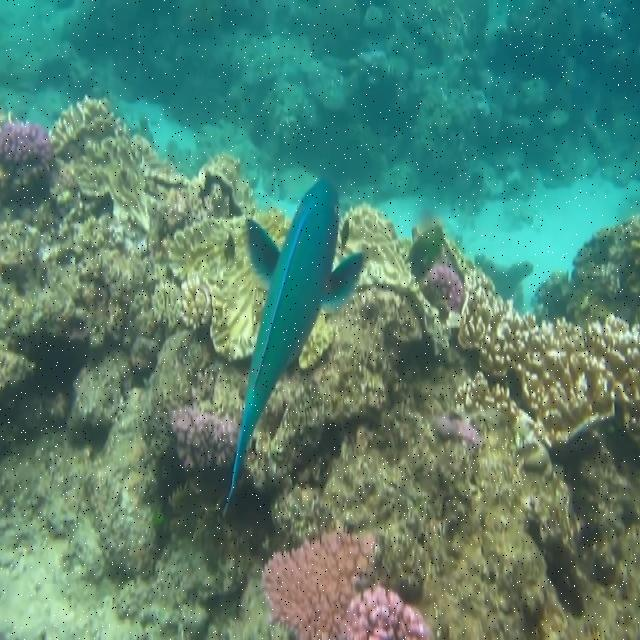fish: (221, 180, 365, 515)
reefs: (259, 531, 434, 639), (169, 404, 237, 472), (0, 117, 53, 170), (427, 262, 464, 312), (438, 418, 487, 449)
